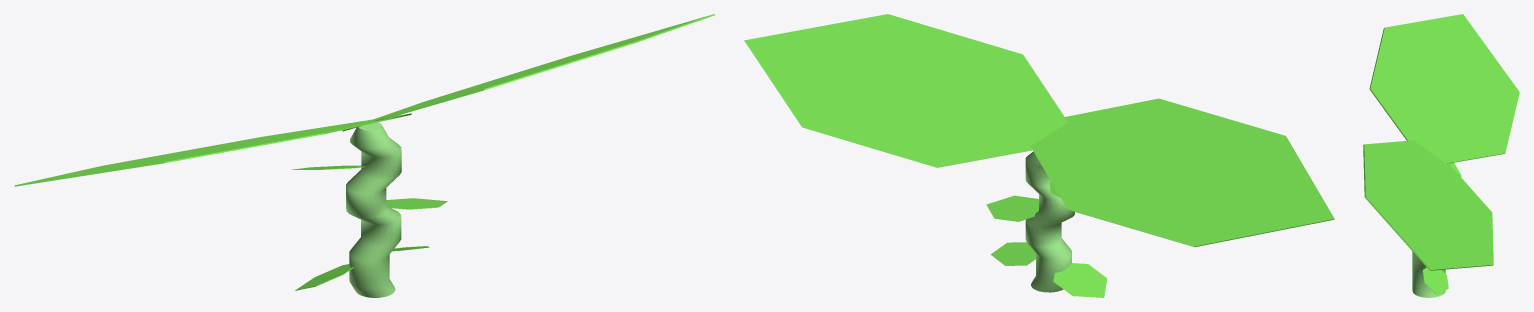
File: LeafVine.fbx
3 views of the same model, side by side, from view 1: azimuth 30°, elevation 25°; view 2: azimuth 150°, elevation 25°; view 3: azimuth 270°, elevation 25° (orthographic). The views are drawn at different scales.
Visible parts, largest first — view 1: LeafVine:LeafVine:pCube5; view 2: LeafVine:LeafVine:pCube5; view 3: LeafVine:LeafVine:pCube5.
Part boxes in pixels (<box>): LeafVine:LeafVine:pCube5: <box>14,14,714,297</box>; LeafVine:LeafVine:pCube5: <box>744,14,1334,297</box>; LeafVine:LeafVine:pCube5: <box>1363,14,1519,297</box>.
Bounding box in the file's own units: 3.78 × 1.18 × 0.9191.
